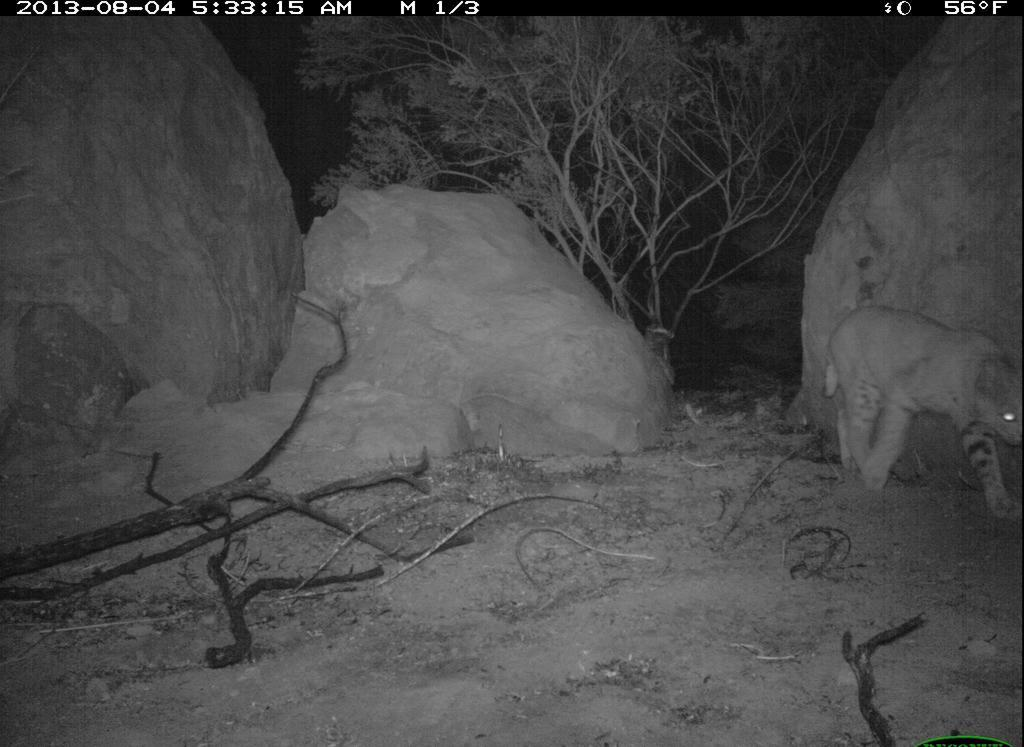bobcat: (806, 286, 1023, 529)
